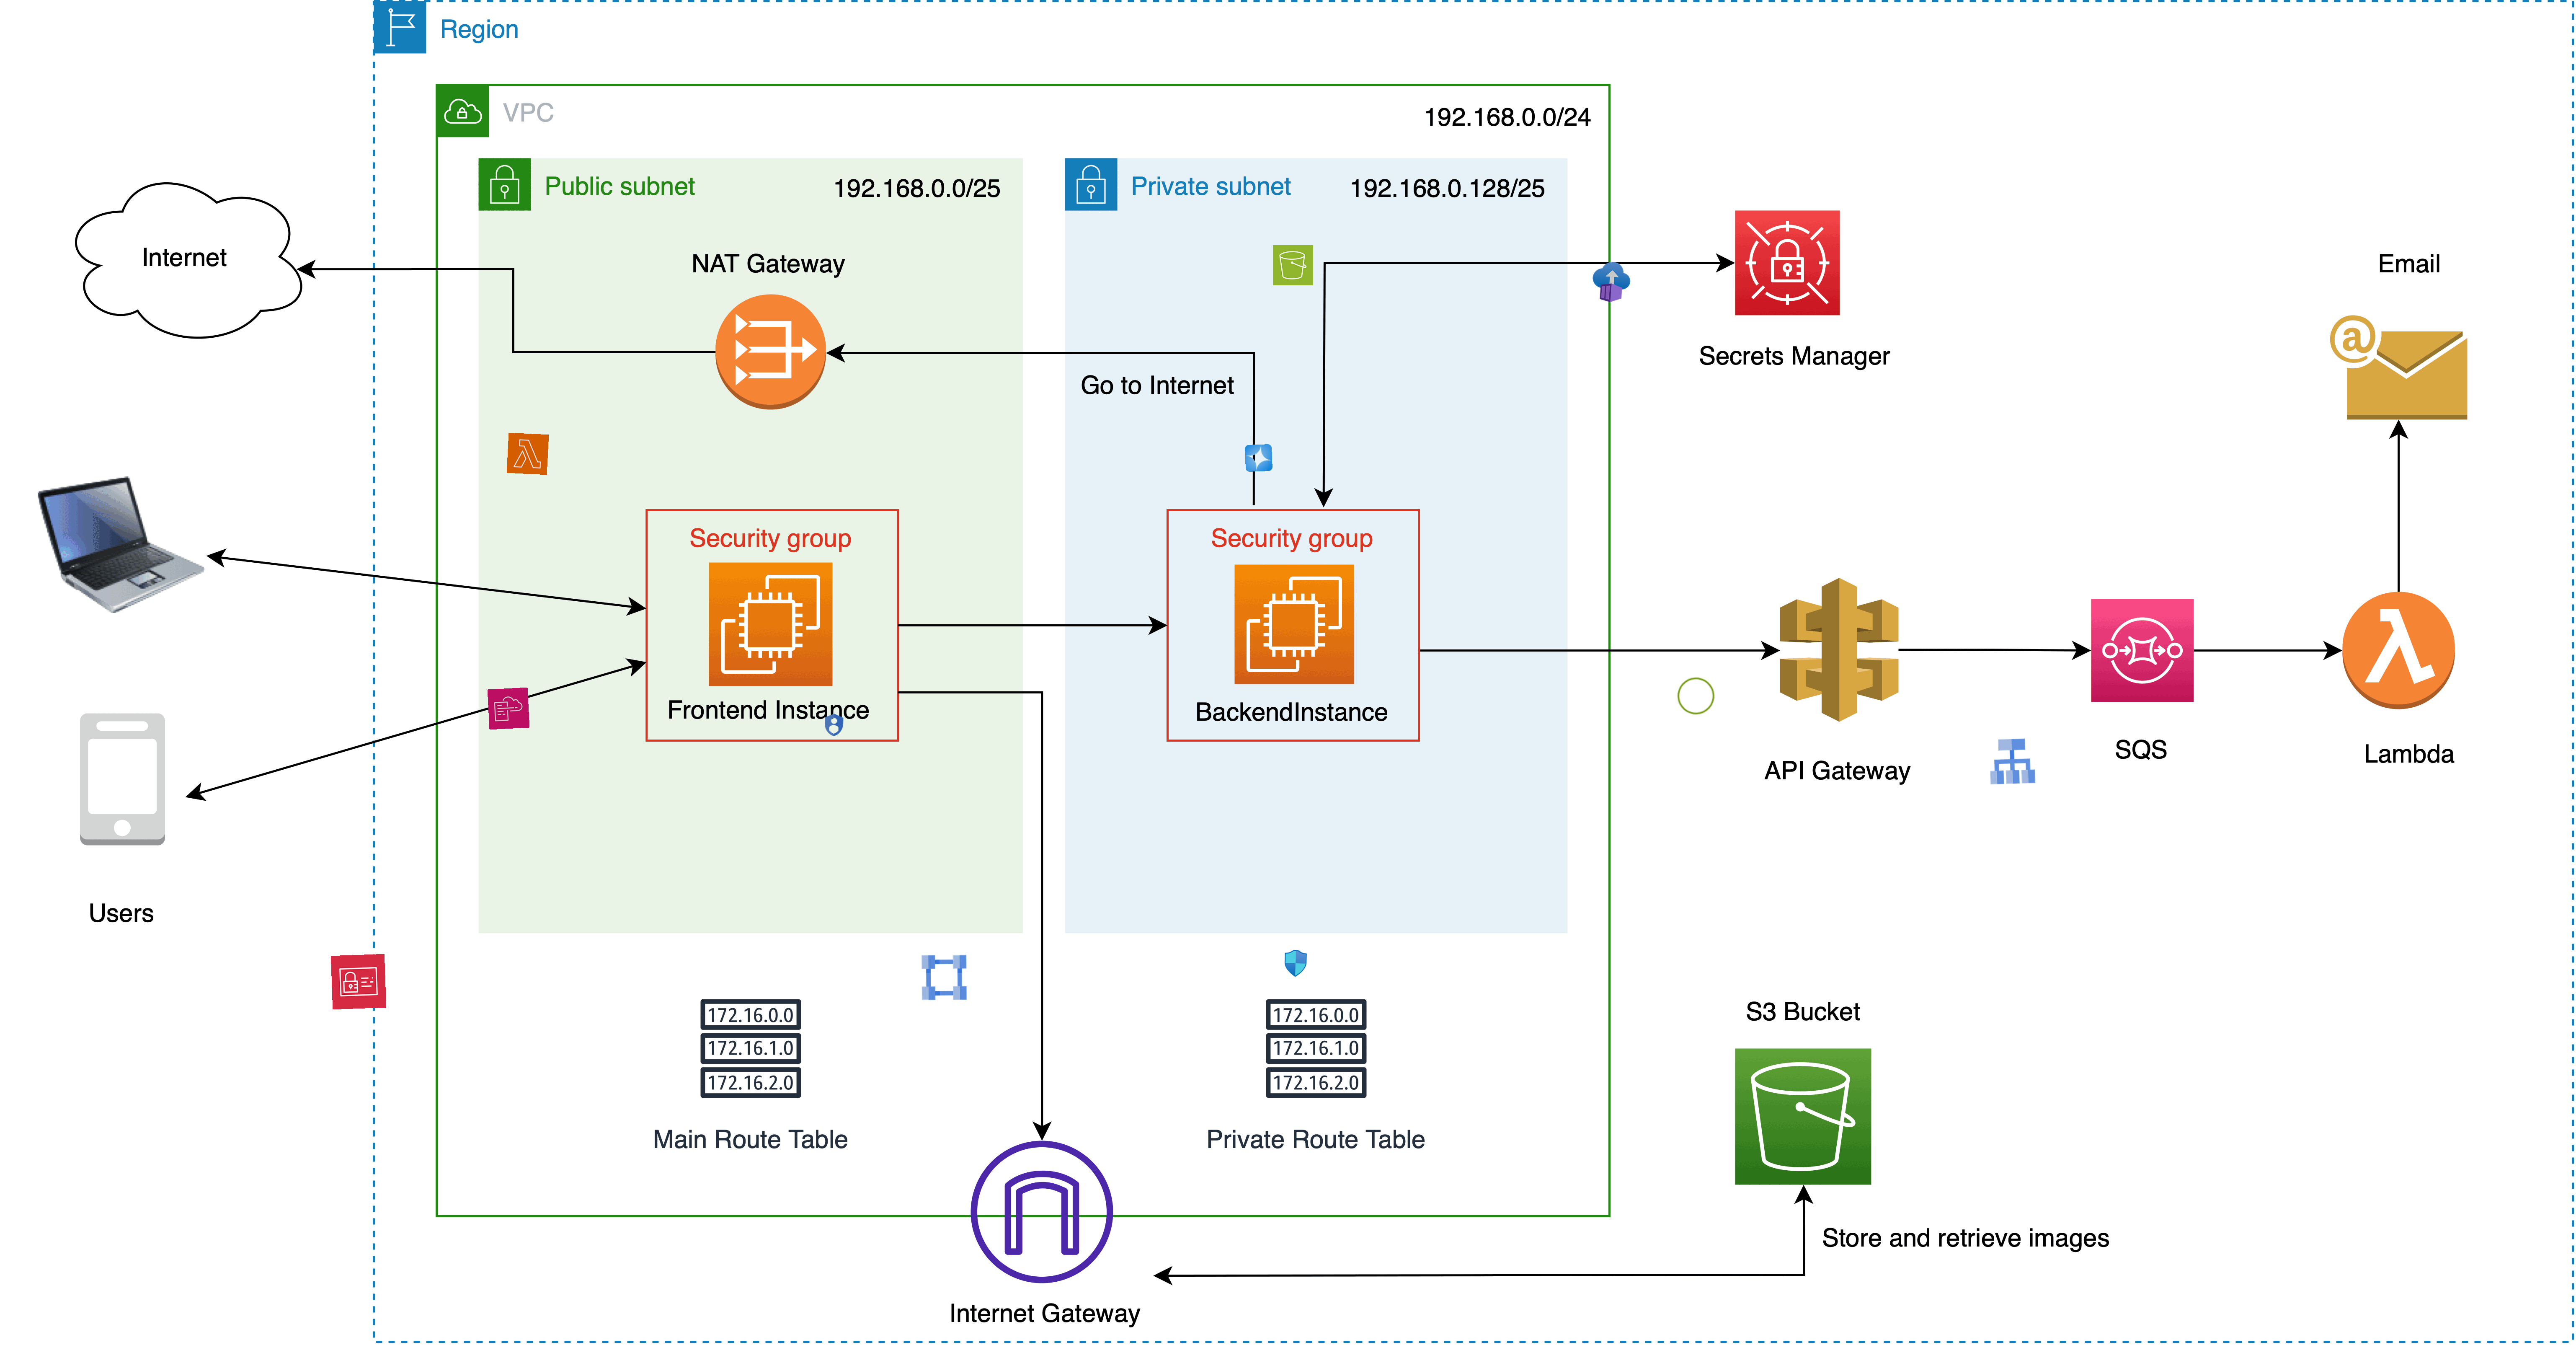aws_amazon_simple_storage_service: (1273, 245, 1314, 286)
aws_cloudformation: (487, 687, 530, 730)
aws_identity_and_access_management: (331, 953, 387, 1009)
aws_lambda: (506, 433, 549, 476)
aws_simple_storage_service_object: (1675, 675, 1717, 718)
azure_container_instances: (1590, 261, 1634, 303)
azure_network_security_groups: (1281, 950, 1310, 977)
azure_openai: (1244, 443, 1273, 472)
gcp_cloud_load_balancing: (1985, 733, 2041, 789)
gcp_identity_and_access_management: (819, 711, 848, 740)
gcp_virtual_private_cloud: (917, 950, 971, 1004)
